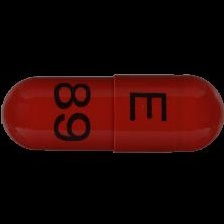68084-713: (0, 0, 224, 224)
